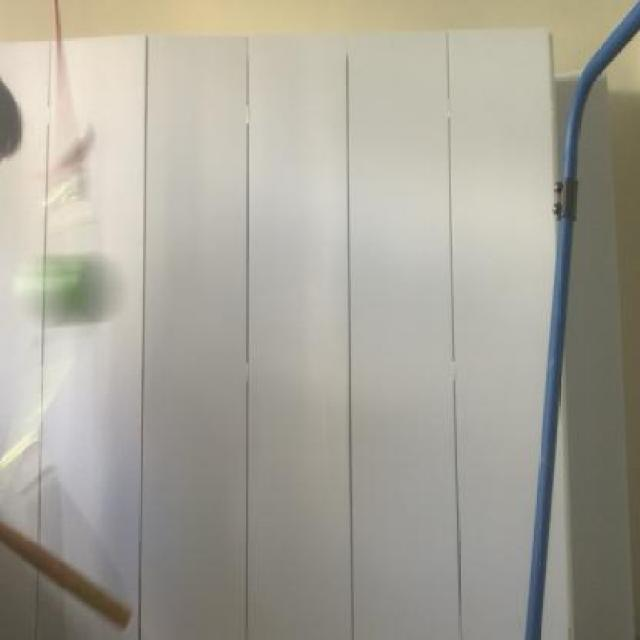baseball: (22, 240, 128, 329)
